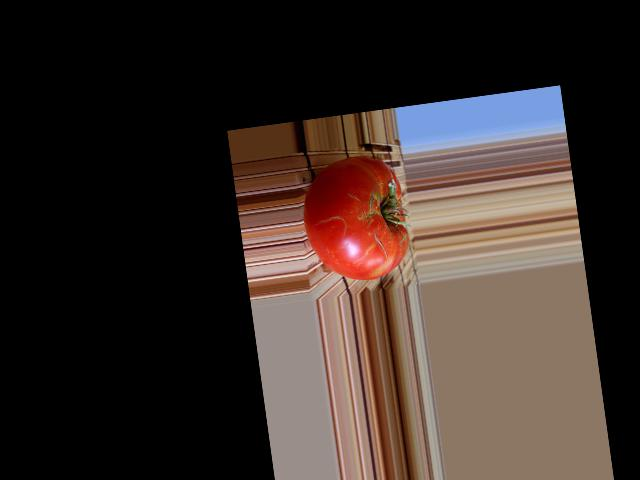tomato: (297, 150, 413, 286)
